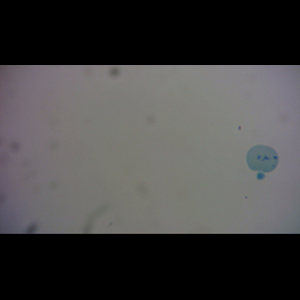aggregate reticulocyte: (245, 144, 281, 174)
